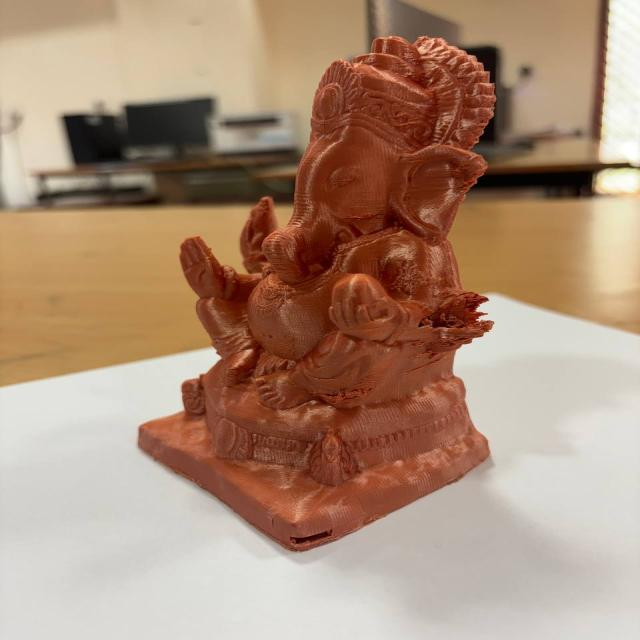cracks: (390, 284, 501, 341), (284, 528, 344, 552)
